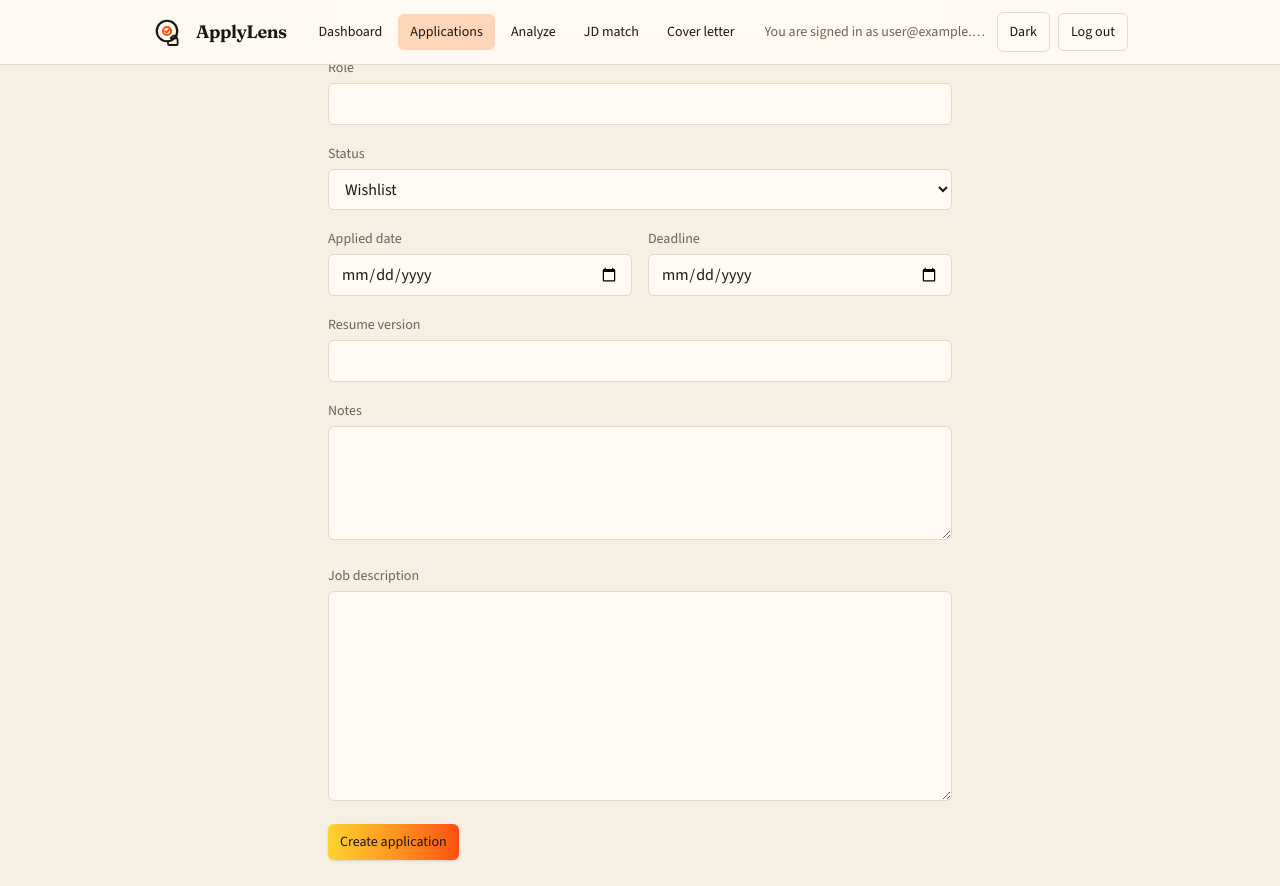
Scenario: application create, edit, detail, and delete › shows client-side and API create errors
(page scrolled)
Click the button "Create application" at [393, 842], box [328,824,459,860]
(page scrolled)
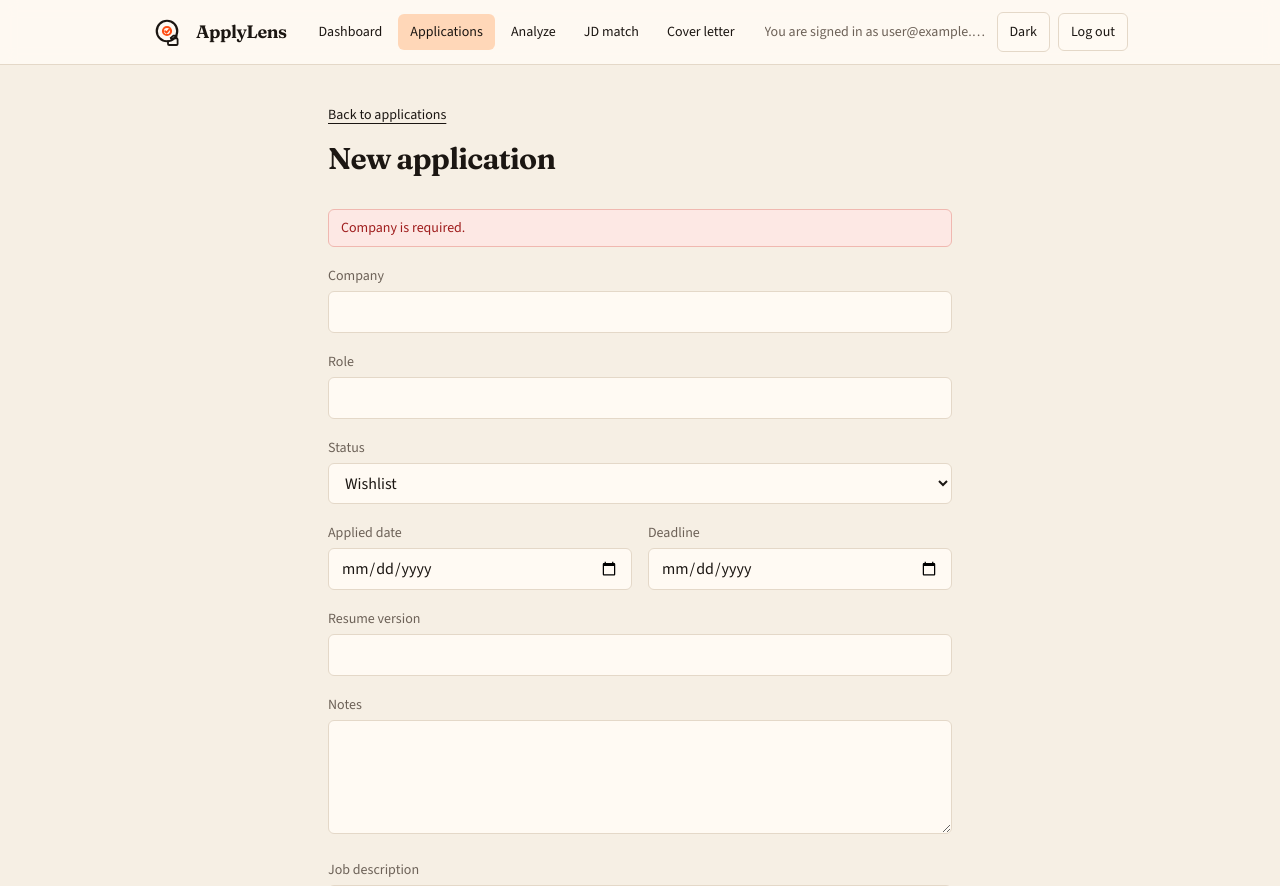
Check: the message reads "Company is required.", box [341,218,465,237]
Type "Acme" into the field labelled "Company" at [640, 312], box [328,291,952,333]
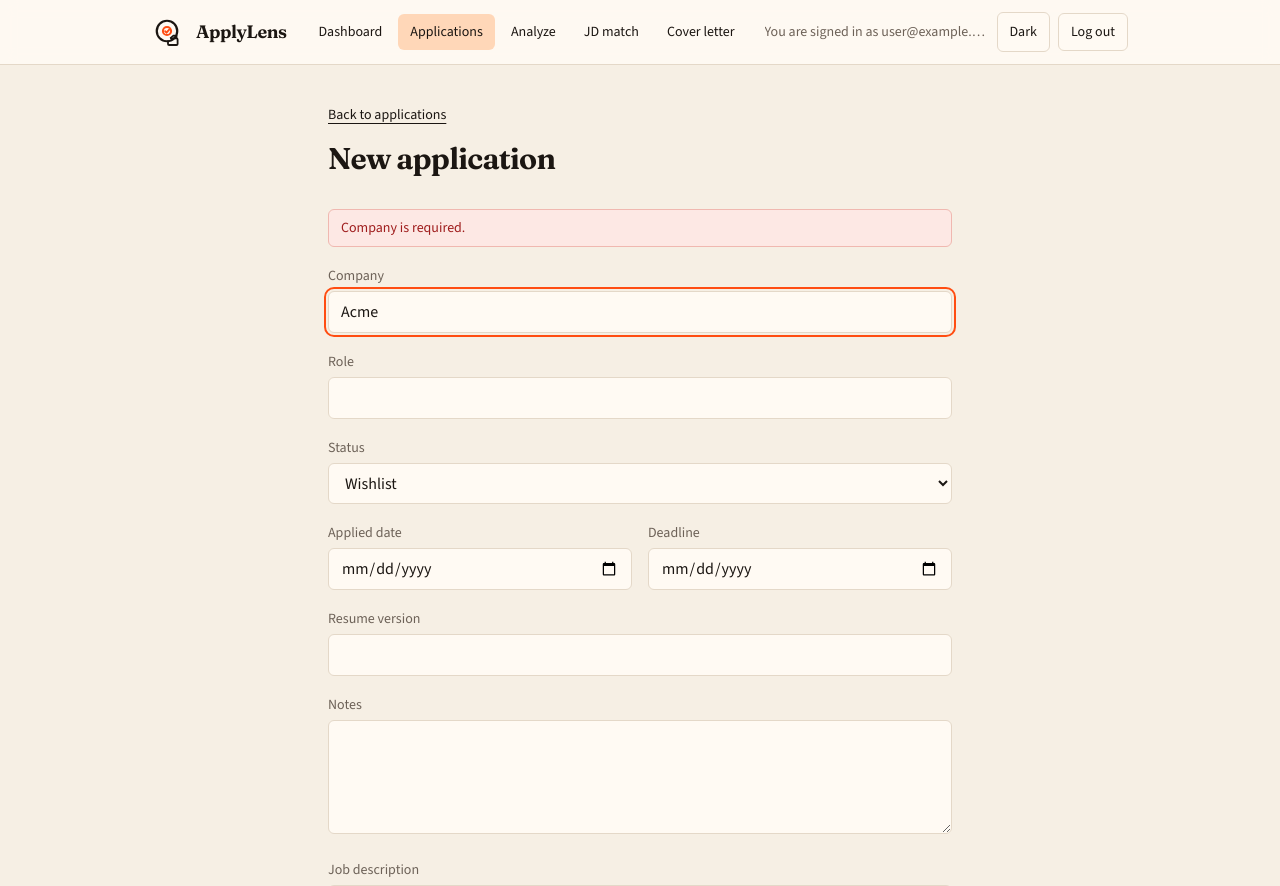
Type "Engineer" into the field labelled "Role" at [640, 398], box [328,377,952,419]
(page scrolled)
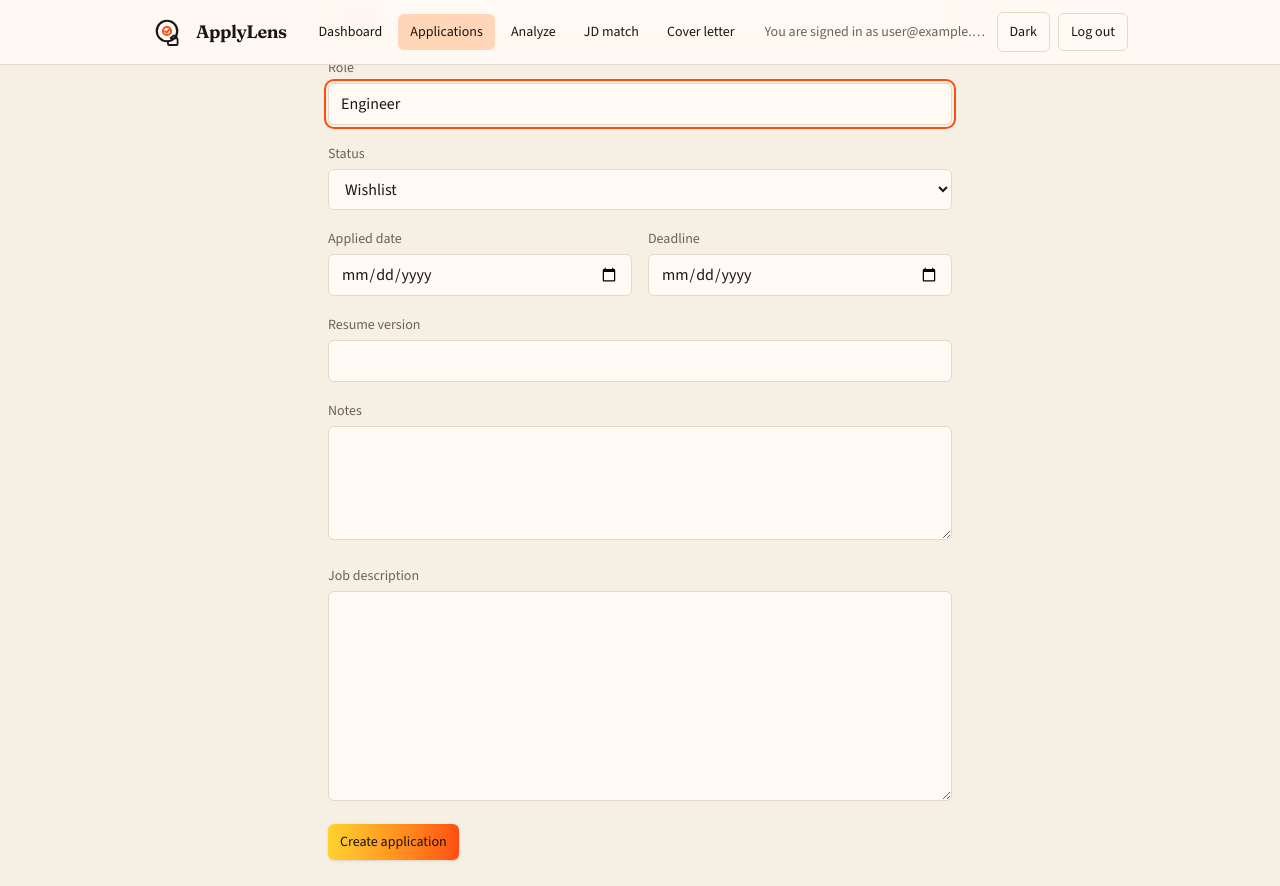
Click the button "Create application" at [393, 842], box [328,824,459,860]
(page scrolled)
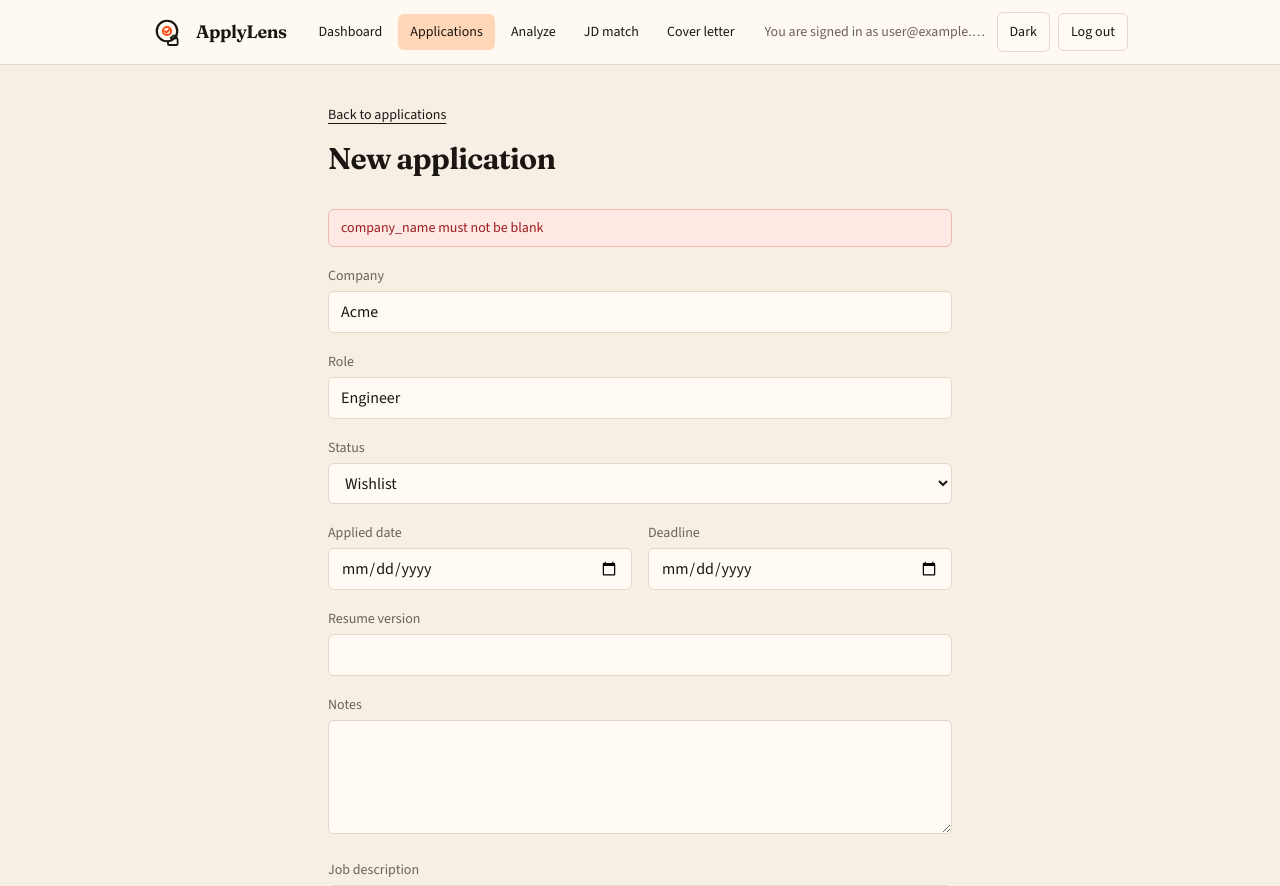
Check: the message reads "company_name must not be blank", box [341,218,544,237]
